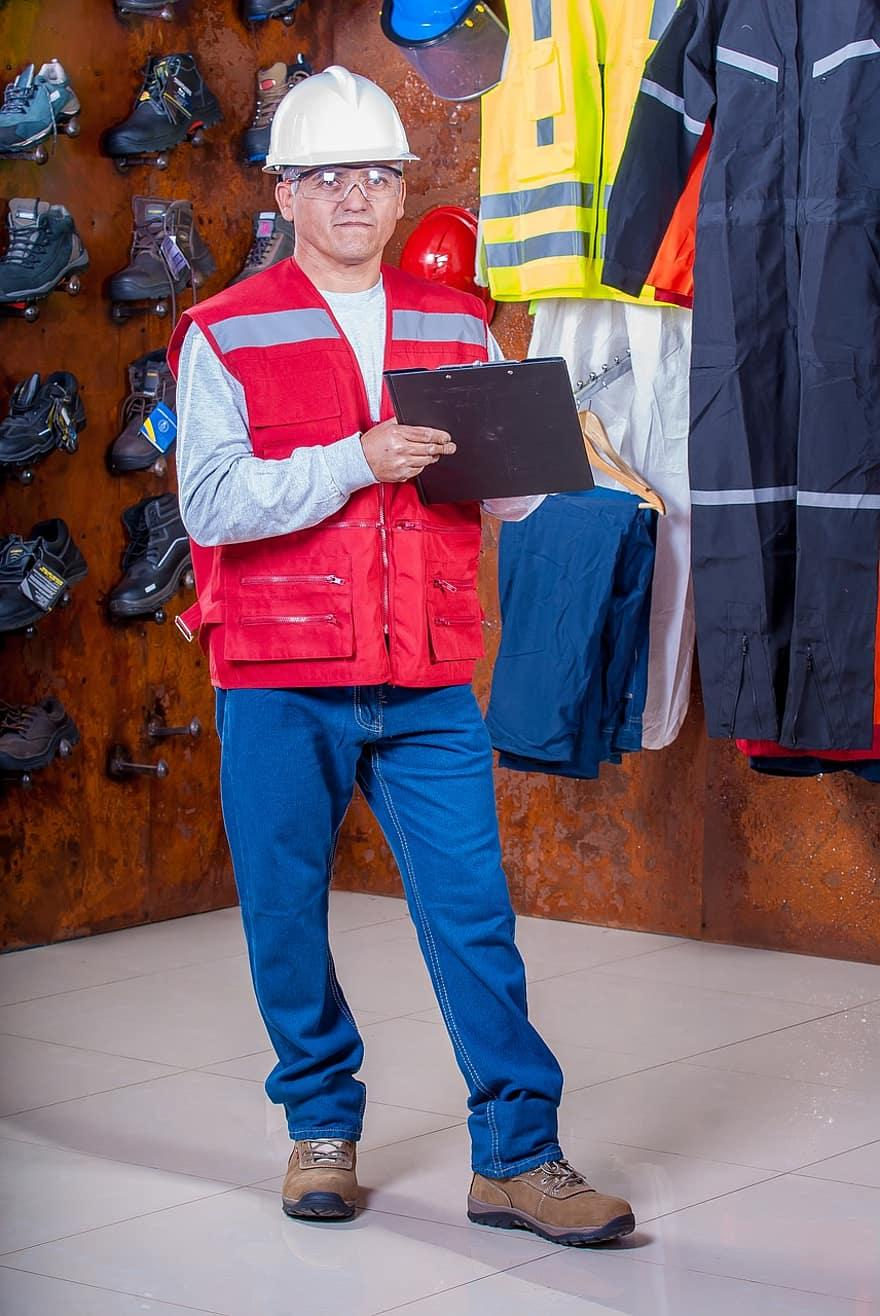hat: (208, 31, 498, 228)
vest: (121, 178, 601, 751)
